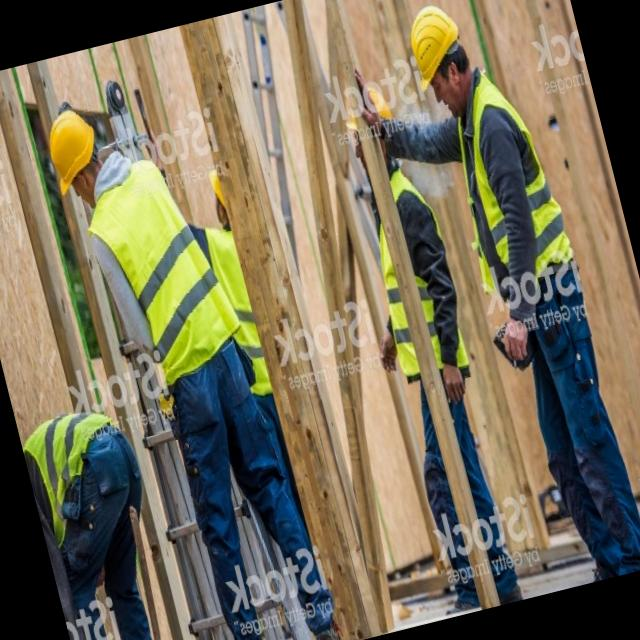helmet: (397, 0, 469, 95), (42, 104, 108, 188)
no-goggles: (426, 66, 455, 98)
vest: (76, 146, 246, 388), (435, 69, 576, 300)
